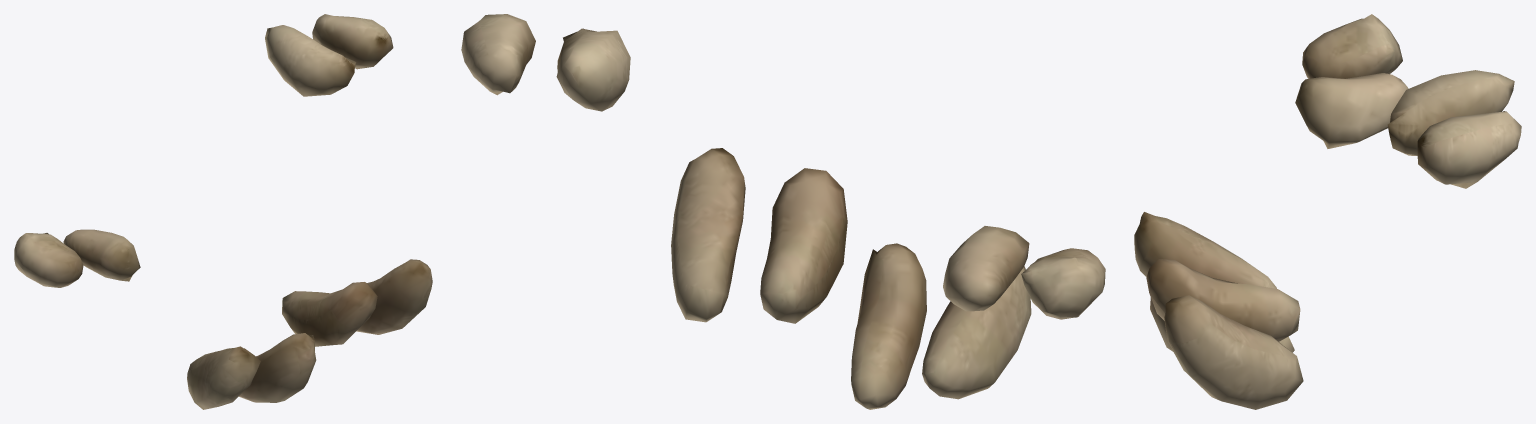
Rendered from Proximal_Sesamoid.glb.
3 views of the same model, side by side, from view 1: azimuth 30°, elevation 25°; view 2: azimuth 150°, elevation 25°; view 3: azimuth 270°, elevation 25° (orthographic). The views are drawn at different scales.
Parts seen in each view (by area): view 1: polySurface62, polySurface60, polySurface61, polySurface63, polySurface64, polySurface59, polySurface66, polySurface65; view 2: polySurface62, polySurface61, polySurface63, polySurface64, polySurface65, polySurface60, polySurface66, polySurface59; view 3: polySurface61, polySurface62, polySurface65, polySurface59, polySurface60, polySurface64, polySurface66, polySurface63.
Part boxes in pixels (x1,y1,x2,y2): polySurface62: [282, 282, 377, 346]; polySurface60: [265, 25, 356, 96]; polySurface61: [356, 259, 432, 334]; polySurface63: [239, 333, 316, 402]; polySurface64: [187, 346, 260, 409]; polySurface59: [312, 14, 393, 69]; polySurface66: [14, 233, 83, 287]; polySurface65: [63, 229, 140, 281]; polySurface62: [760, 168, 847, 323]; polySurface61: [671, 148, 745, 322]; polySurface63: [851, 243, 926, 409]; polySurface64: [922, 266, 1031, 399]; polySurface65: [943, 226, 1029, 311]; polySurface60: [556, 28, 630, 111]; polySurface66: [1021, 248, 1105, 319]; polySurface59: [461, 14, 535, 95]; polySurface61: [1164, 295, 1303, 409]; polySurface62: [1146, 259, 1300, 341]; polySurface65: [1295, 73, 1408, 148]; polySurface59: [1417, 111, 1521, 188]; polySurface60: [1387, 70, 1514, 155]; polySurface64: [1134, 212, 1276, 288]; polySurface66: [1302, 14, 1402, 78]; polySurface63: [1150, 297, 1294, 352].
Bounding box in the file's own units: 34.08 × 22.51 × 20.94.
1 material, 1 textured.
